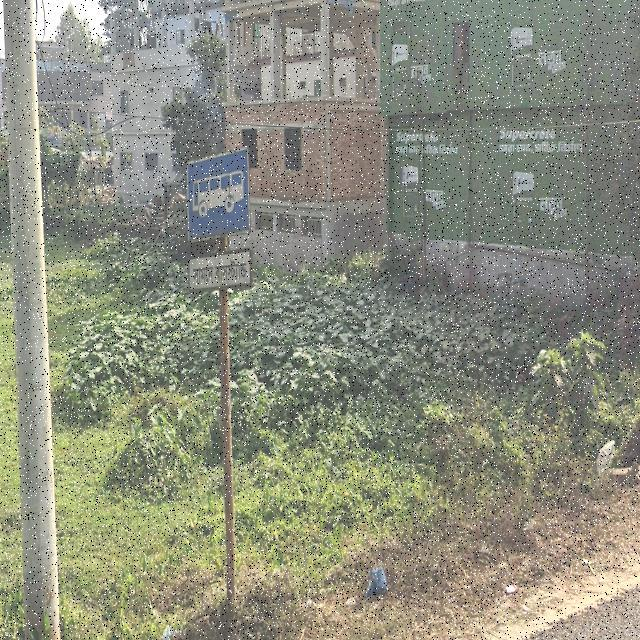Ahead-the-bus-station: (182, 157, 258, 293)
